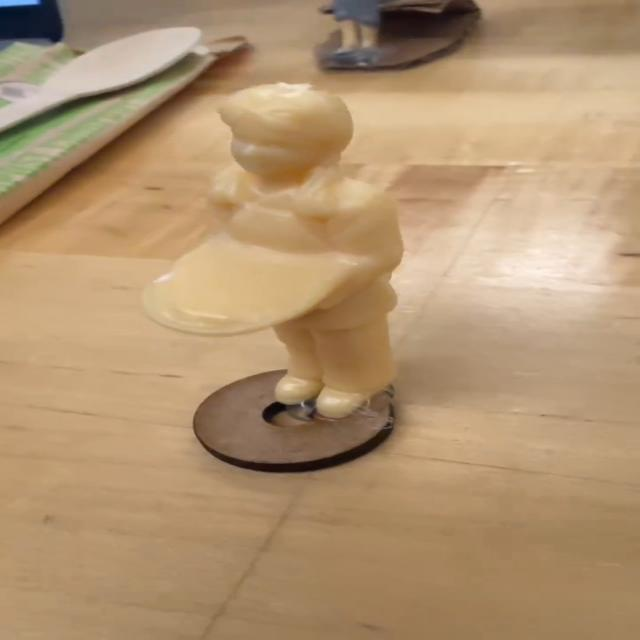Unauthorized: (149, 77, 456, 432)
